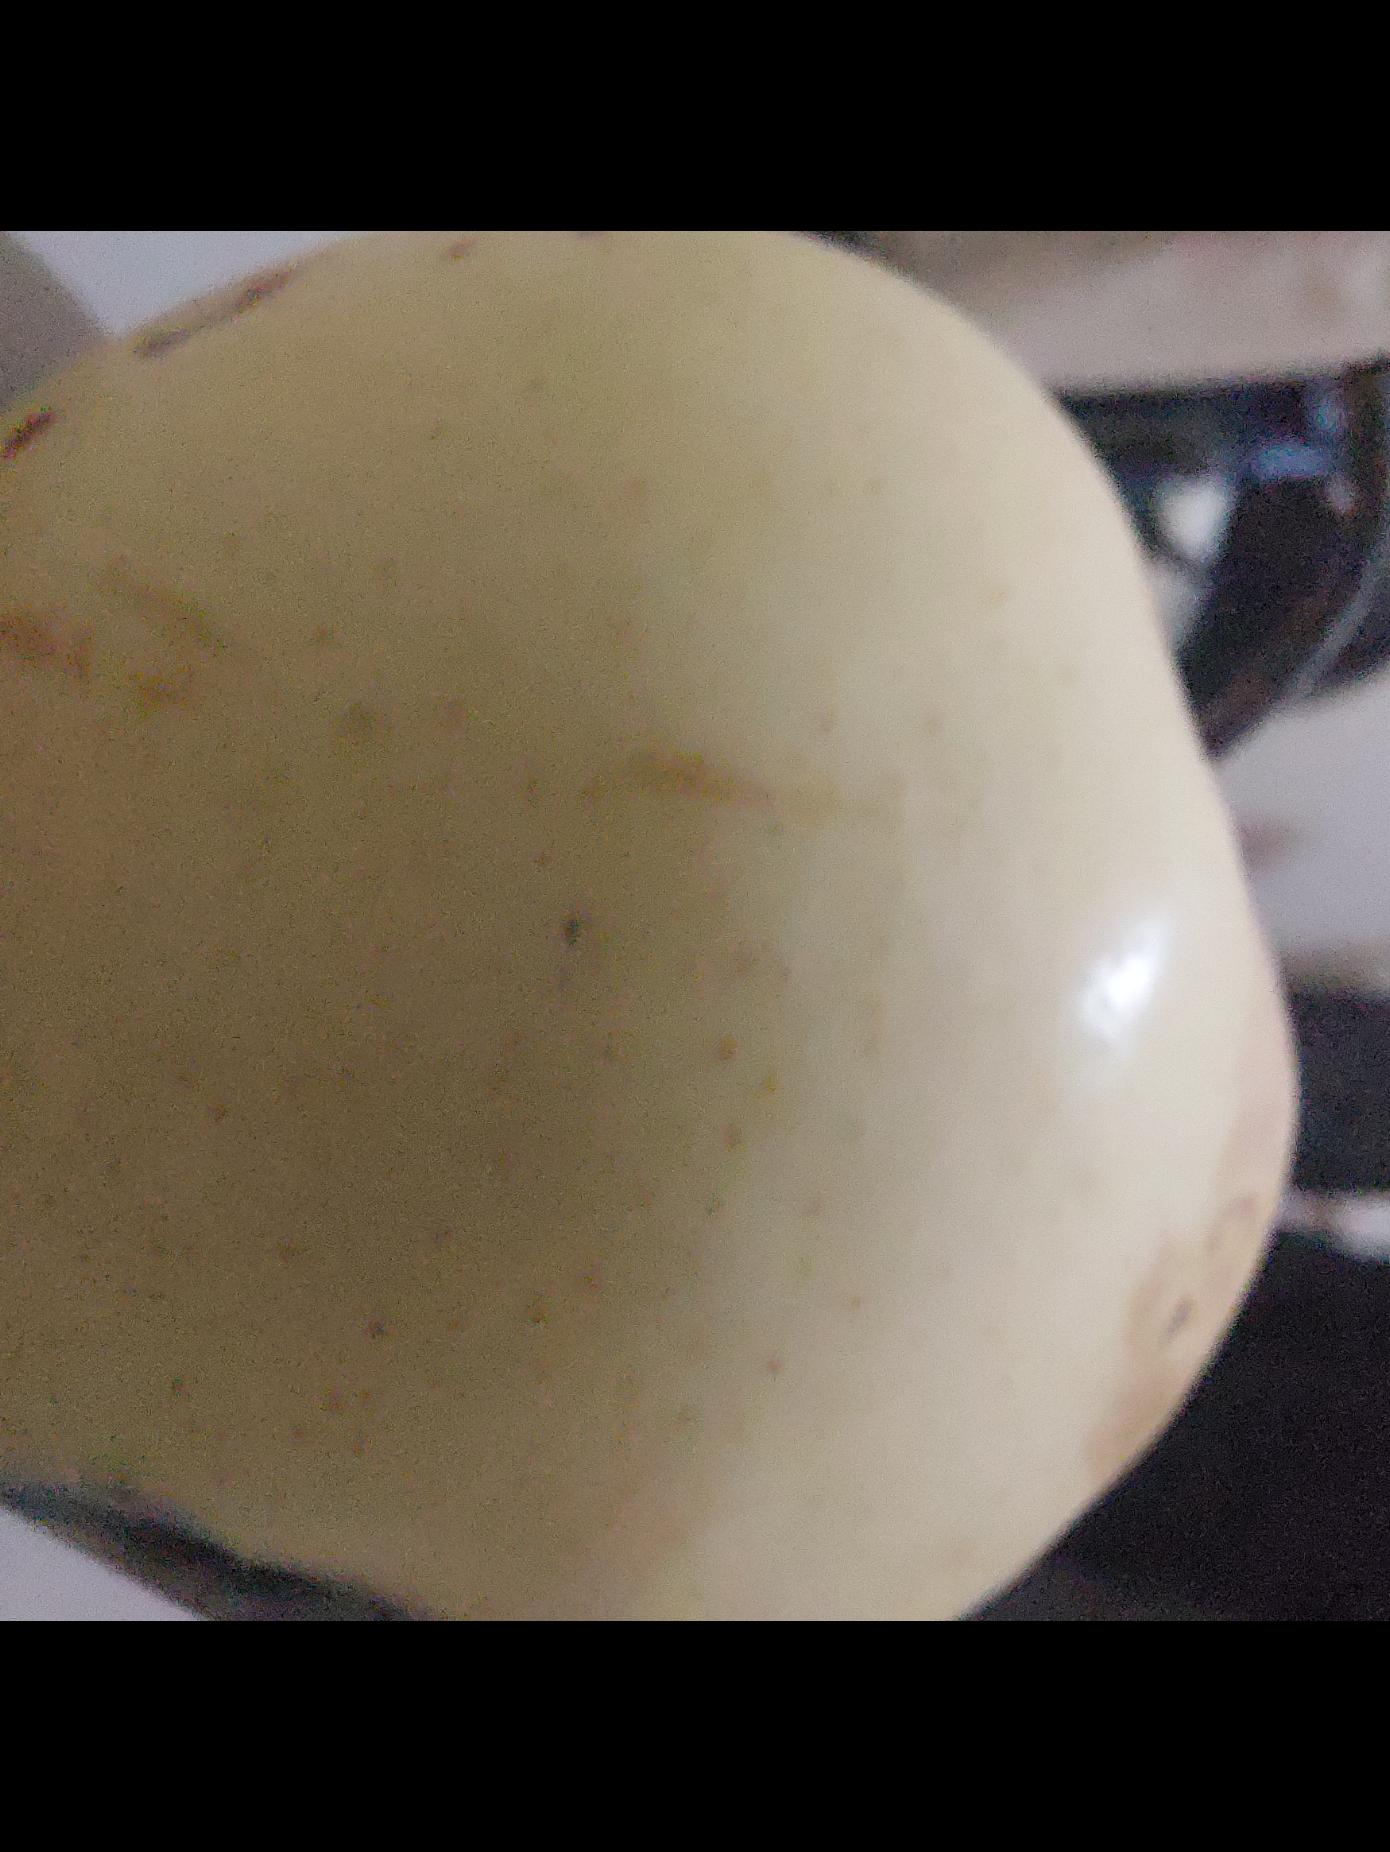Bad Pear: (0, 231, 1311, 1621)
